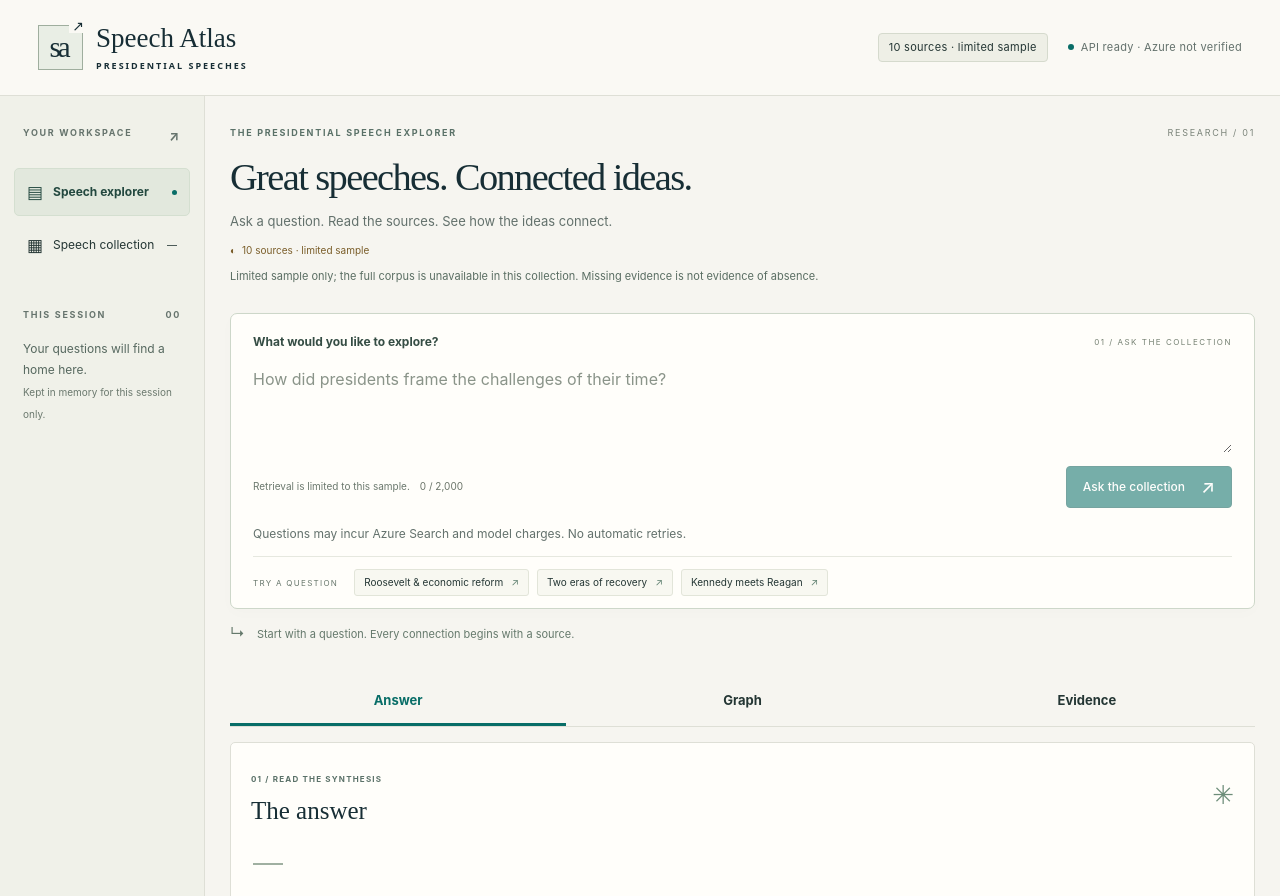
Scenario: research workspace › handles a forbidden catalog without blocking the question form
Click the button "▦ Speech collection —": point(102, 246) [14, 222, 190, 270]
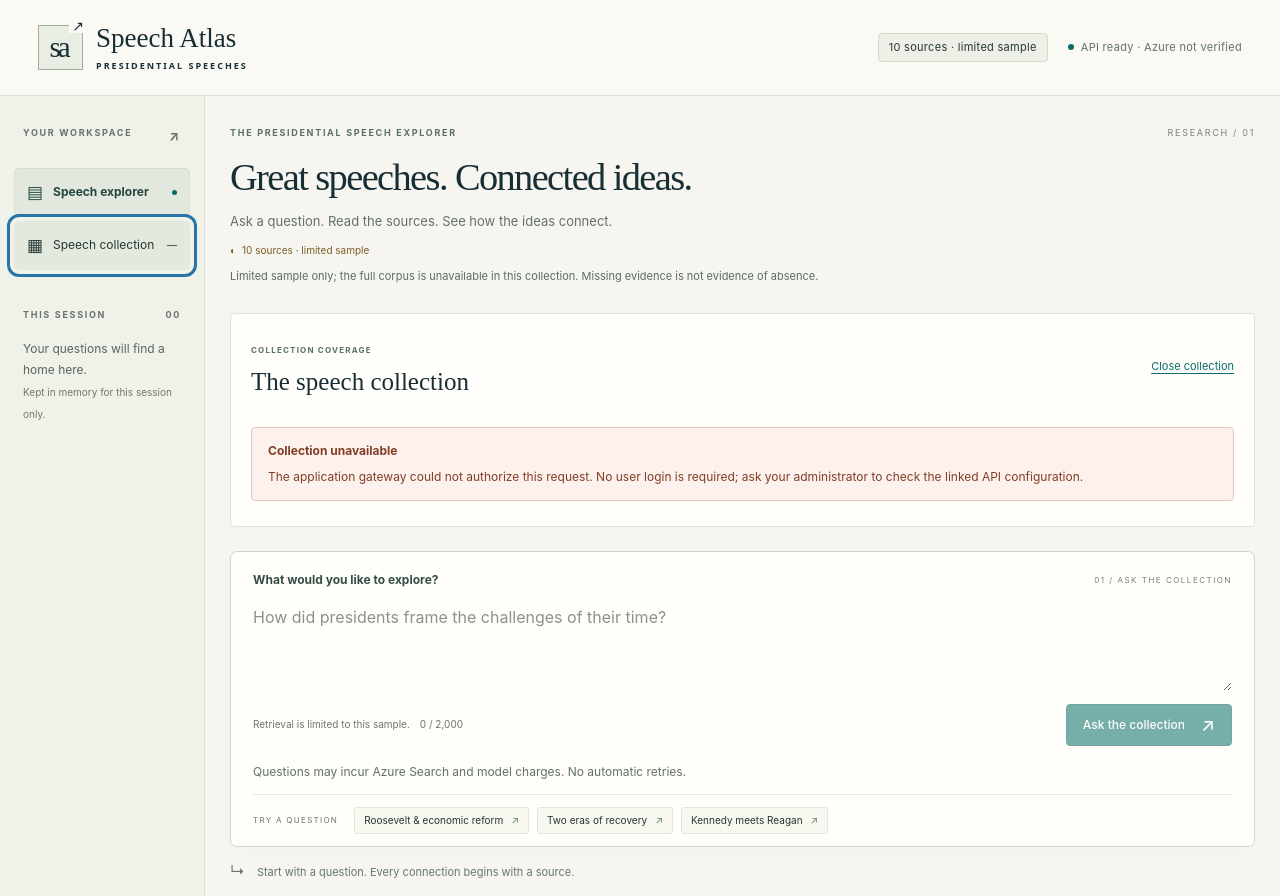
Expected: the text box is enabled, [253, 590, 1232, 691]
Expected: the message that starts with "Collection unavailable" is shown, [268, 443, 398, 458]
